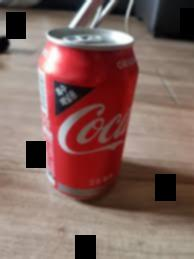cocacola: (33, 24, 142, 205)
